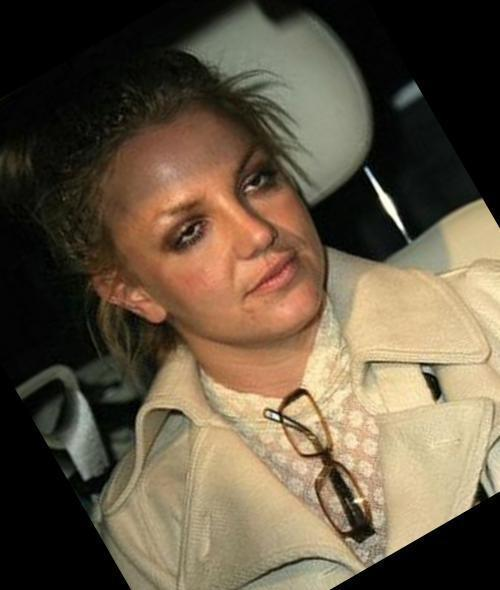Drunk: (108, 132, 310, 327)
